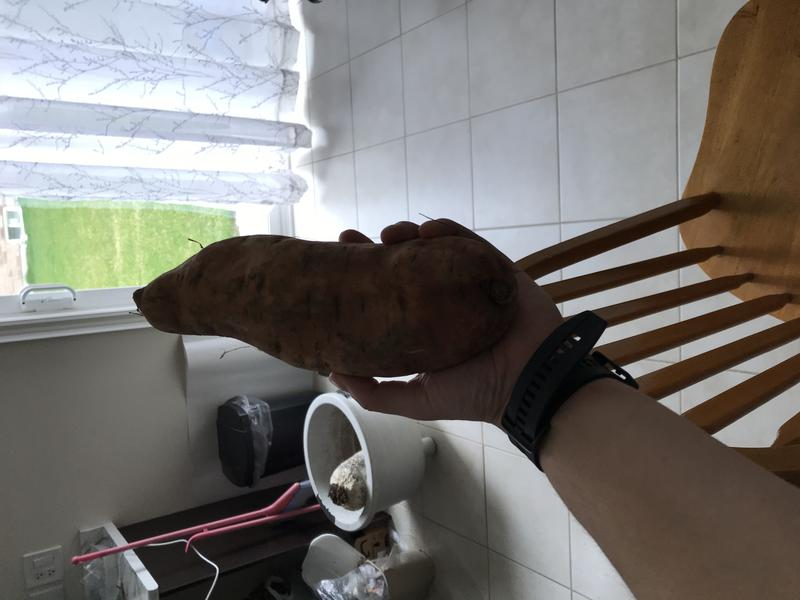sweet_potato: (122, 223, 528, 385)
